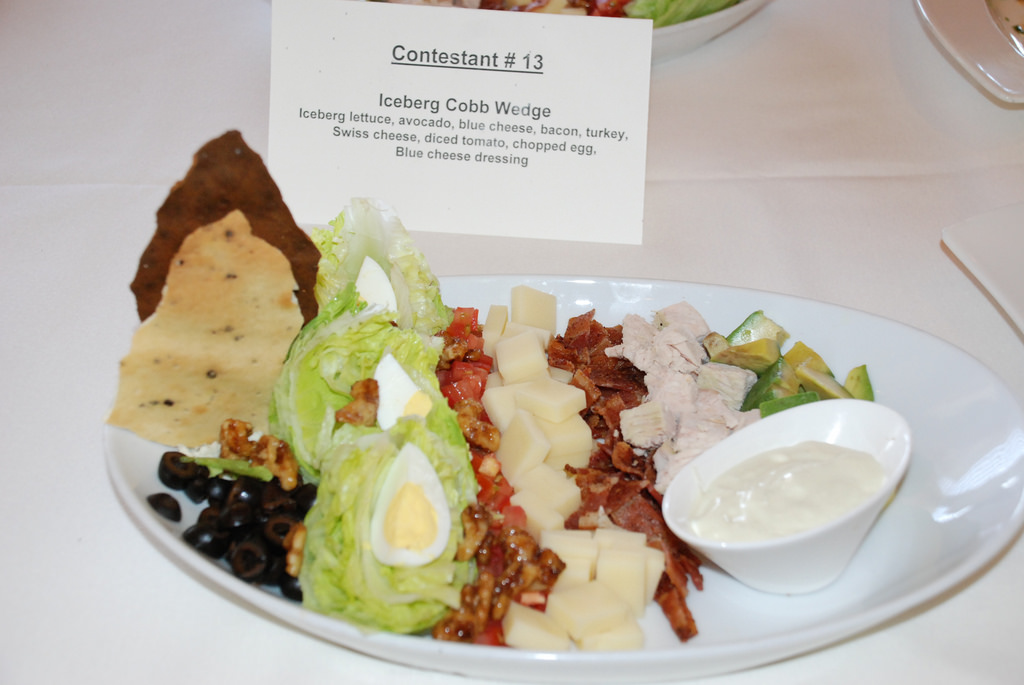chopped lettuce: (285, 211, 459, 637)
